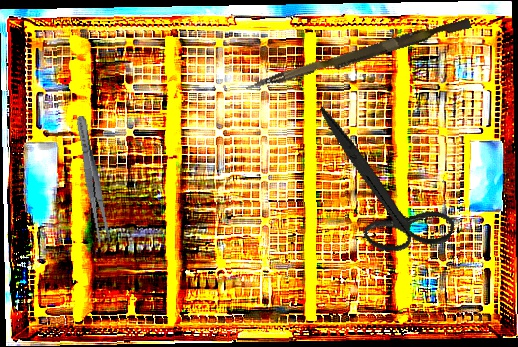Dressing Forceps: (71, 114, 114, 244)
Iris Scissors: (282, 105, 478, 271)
Pusher: (244, 12, 472, 100)
